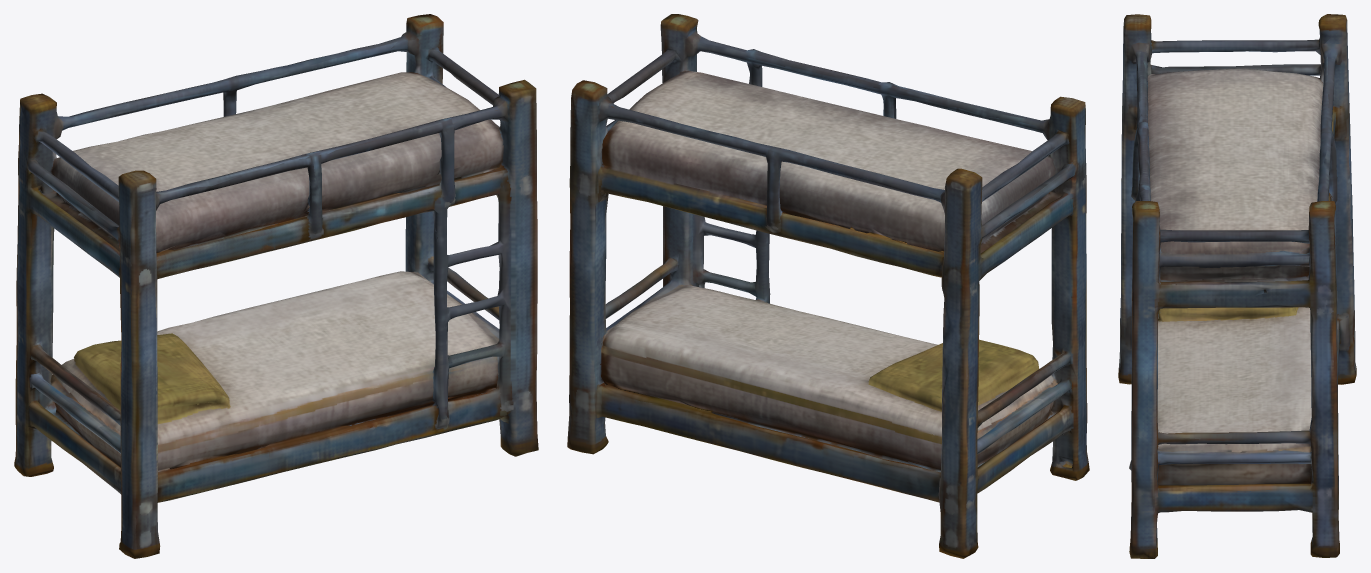
File: raw.glb
3 views of the same model, side by side, from view 1: azimuth 30°, elevation 25°; view 2: azimuth 150°, elevation 25°; view 3: azimuth 270°, elevation 25° (orthographic). The views are drawn at different scales.
Size of the model in its own units: 0.9444 by 0.8233 by 0.4917.
Materials: 1 (1 with a texture image).
